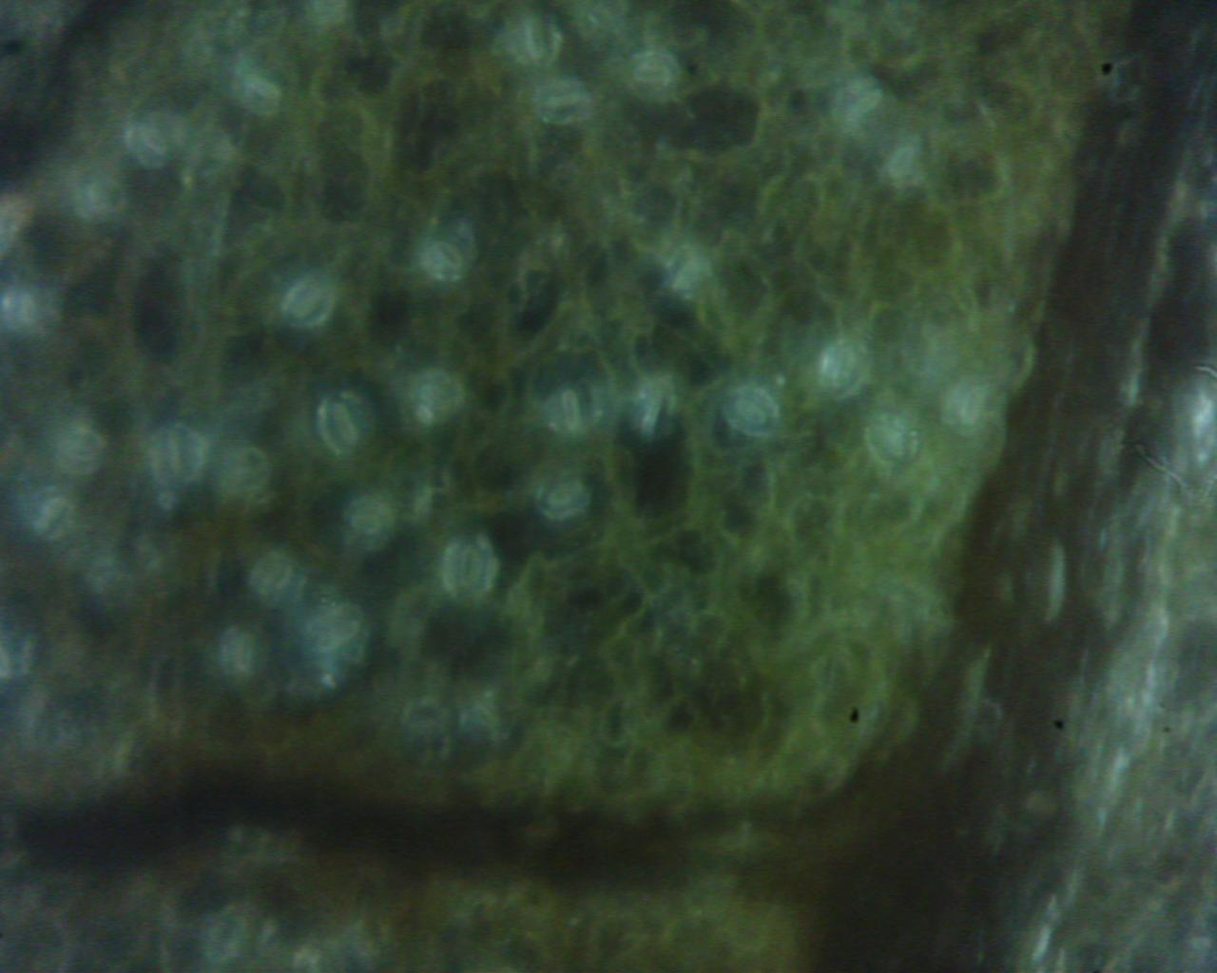stomata: (448, 540, 495, 603), (153, 427, 203, 484), (346, 497, 396, 551), (948, 380, 993, 437), (547, 385, 594, 439), (623, 54, 678, 99), (514, 12, 559, 66), (825, 342, 866, 400), (58, 430, 108, 475), (222, 625, 264, 678), (6, 283, 50, 333), (321, 400, 365, 450), (538, 475, 591, 516), (311, 617, 359, 660), (636, 390, 674, 444), (416, 372, 458, 417), (535, 86, 584, 124), (731, 392, 773, 434), (244, 70, 287, 109), (32, 493, 68, 537), (882, 143, 916, 189), (289, 285, 328, 325), (844, 86, 885, 124), (259, 564, 301, 598), (134, 125, 173, 161), (432, 238, 468, 276), (873, 425, 912, 459)
